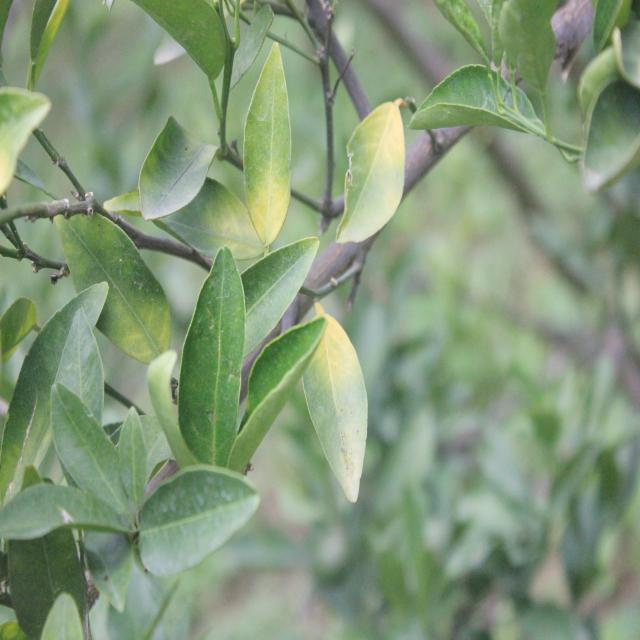greening: (308, 314, 369, 496), (247, 52, 293, 239), (340, 104, 406, 230)
